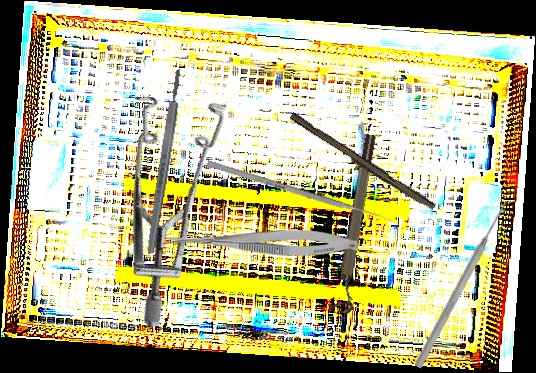Fixation Ring: (328, 133, 387, 315)
Micro Scissor: (157, 229, 359, 257)
Pusher: (412, 198, 512, 370), (206, 160, 391, 223)
Scalpel Handle: (286, 111, 438, 214), (144, 67, 185, 256)
Speculum: (28, 56, 298, 332)
